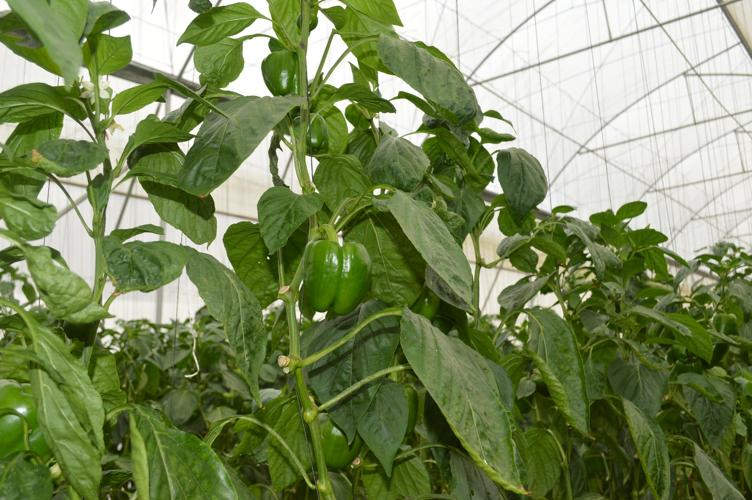BellPepper: (297, 220, 377, 335), (307, 405, 373, 481), (247, 48, 312, 110)
